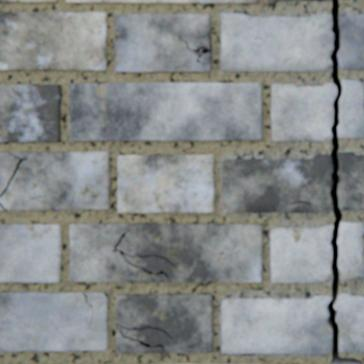brick: (70, 83, 262, 141), (71, 223, 262, 281), (0, 291, 109, 350), (0, 152, 111, 209), (0, 13, 108, 71), (117, 293, 213, 352), (115, 15, 212, 72), (119, 155, 214, 212), (0, 224, 62, 282), (0, 85, 62, 142), (0, 152, 20, 195), (67, 0, 258, 4), (0, 0, 59, 3), (159, 362, 260, 363)
broken_brick: (222, 14, 333, 71), (222, 295, 332, 352), (223, 155, 332, 212), (271, 83, 336, 141), (271, 224, 333, 281), (334, 293, 363, 350), (337, 222, 363, 279), (337, 12, 363, 69), (338, 152, 363, 210), (338, 81, 363, 137), (268, 0, 331, 1)
crack: (327, 0, 362, 363), (114, 231, 175, 277), (117, 322, 173, 345), (0, 152, 27, 197), (179, 35, 211, 62), (290, 201, 310, 204), (0, 202, 8, 209), (156, 343, 165, 349), (91, 304, 94, 319)
